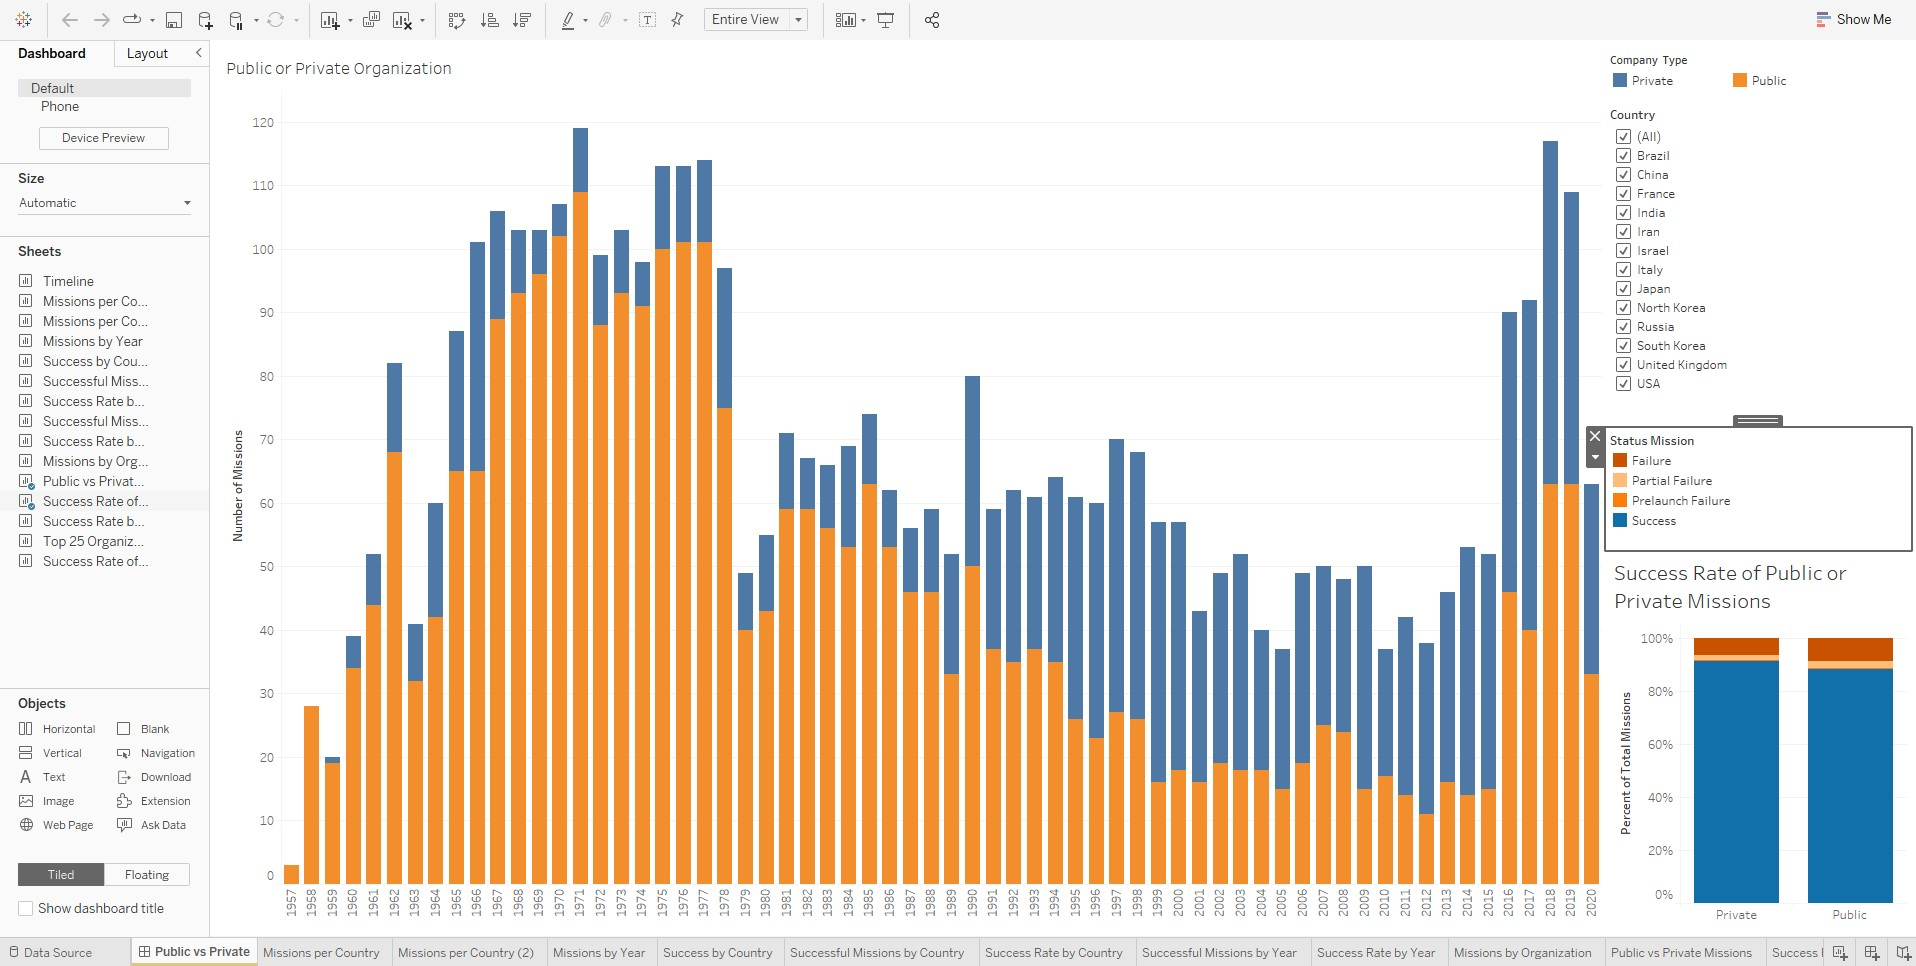

Layout of this report page (visuals, bound fields, positions):
{"tool":"tableau","page":{"name":"Public vs Private","canvas":[1000,1000],"units":"permille","ordinal":3},"visuals":[{"type":"worksheet","title":"Public vs Private Missions","mark":"Bar","rows":["Status Mission"],"cols":["Datum"],"box":[4.2,7.5,813,985]},{"type":"legend","title":"Public vs Private Missions","param":"[federated.04d1quz07topc81glb1oh17g81wn].[Company Name (group)]","box":[817.2,7.5,178.7,60.1]},{"type":"filter","title":"Public vs Private Missions","param":"[federated.04d1quz07topc81glb1oh17g81wn].[none:Country:nk]","box":[817.2,67.6,178.7,365.2]},{"type":"legend","title":"Success Rate of Public or Private Missions","param":"[federated.04d1quz07topc81glb1oh17g81wn].[none:Status Mission:nk]","box":[817.2,432.8,178.7,136.7]},{"type":"worksheet","title":"Success Rate of Public or Private Missions","mark":"Bar","rows":["Status Mission"],"box":[817.2,569.5,178.7,423]}]}

Visuals, with their boxes on the dashboard's canvas, which has no fixed pixel size, in thousandths of its width and height (x1, y1, x2, y2). These are canvas units, not pixel positions in the 1916x966 screenshot, which may show the page scaled, cropped or inside an application window:
"Public vs Private Missions" worksheet (Bar marks): detection(4, 8, 817, 992)
"Public vs Private Missions" legend: detection(817, 8, 996, 68)
"Public vs Private Missions" filter: detection(817, 68, 996, 433)
"Success Rate of Public or Private Missions" legend: detection(817, 433, 996, 570)
"Success Rate of Public or Private Missions" worksheet (Bar marks): detection(817, 570, 996, 992)
